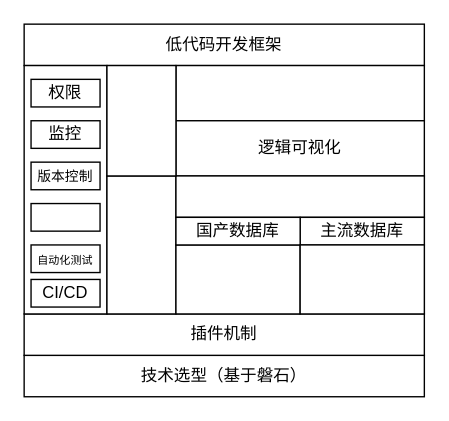
Some shapes in this 449 by 421 pixel diagram are drawn without their labels. The shapes that lost their labels are listed below. From the top down, each one's box as (x1, y1, x2, y2) in pixels, then its label:
(175, 175, 424, 217): 统一数据库语言
(106, 175, 176, 314): 数据层
